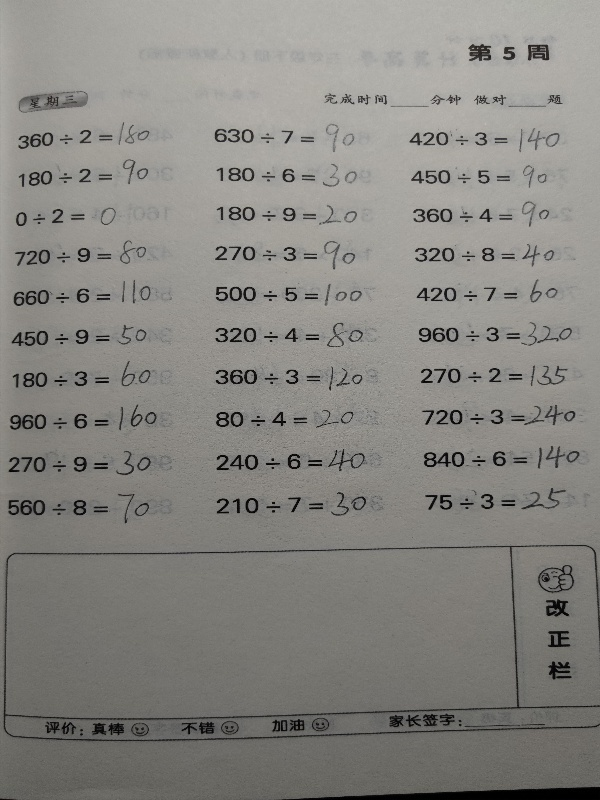equation: (212, 436, 370, 474), (5, 490, 154, 527), (213, 488, 381, 520), (212, 237, 360, 273), (212, 319, 367, 352), (415, 319, 576, 350), (214, 158, 365, 191), (8, 357, 154, 391), (212, 363, 367, 395), (6, 405, 161, 436), (5, 447, 155, 479), (420, 443, 583, 472), (211, 120, 363, 151), (413, 238, 563, 269), (9, 277, 154, 308), (212, 280, 366, 309), (11, 237, 150, 269), (14, 156, 151, 188), (418, 402, 579, 429), (421, 485, 569, 514), (418, 362, 571, 390), (414, 280, 568, 307), (410, 199, 555, 227), (14, 120, 154, 149), (213, 202, 360, 229), (406, 128, 563, 153), (8, 322, 150, 349), (212, 406, 358, 432), (408, 163, 554, 188), (13, 202, 127, 229)
